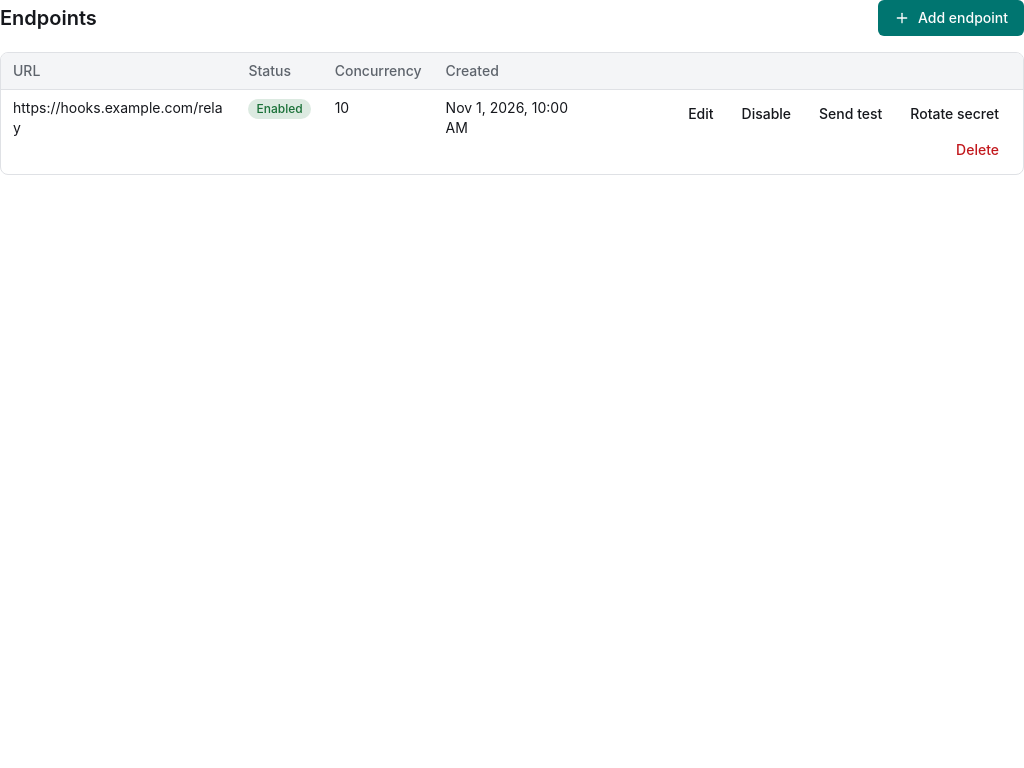
Test: endpoints: create › shows a refused (SSRF) URL on the URL field, not as a general error
Expected: the link "https://hooks.example.com/relay" is shown, [13,99,223,136]
Click the button "Add endpoint" at point(951, 18), box [878,0,1023,36]
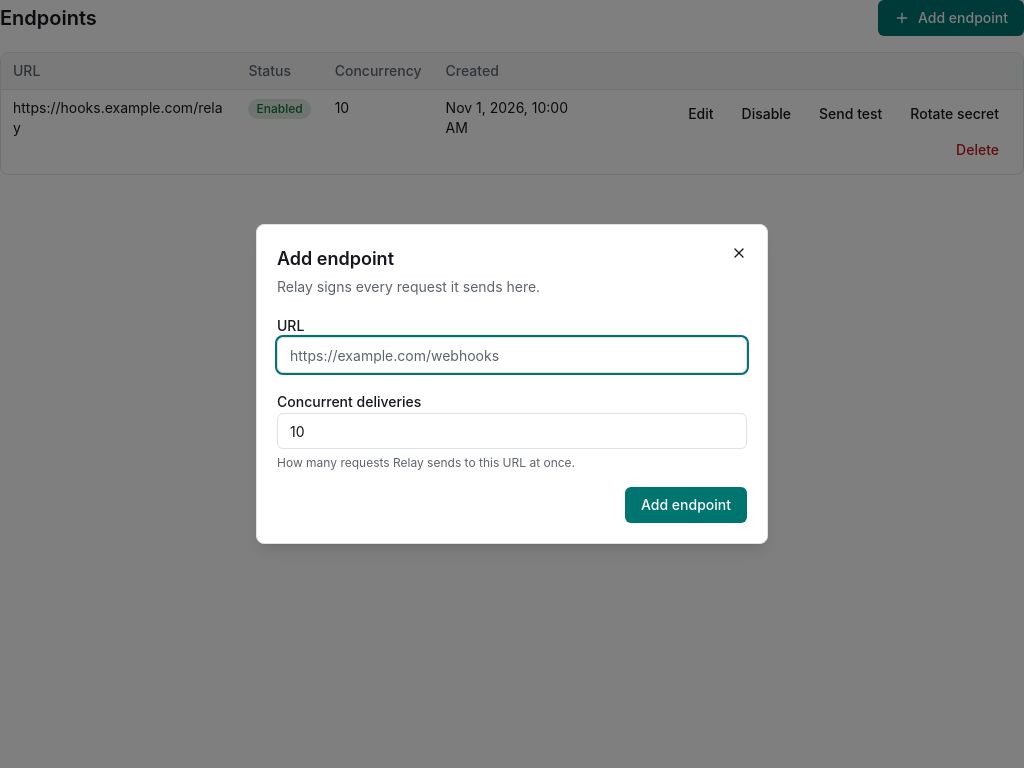
Type "https://internal.example.com/" into the field labelled "URL" at point(512, 355), box [277,337,747,373]
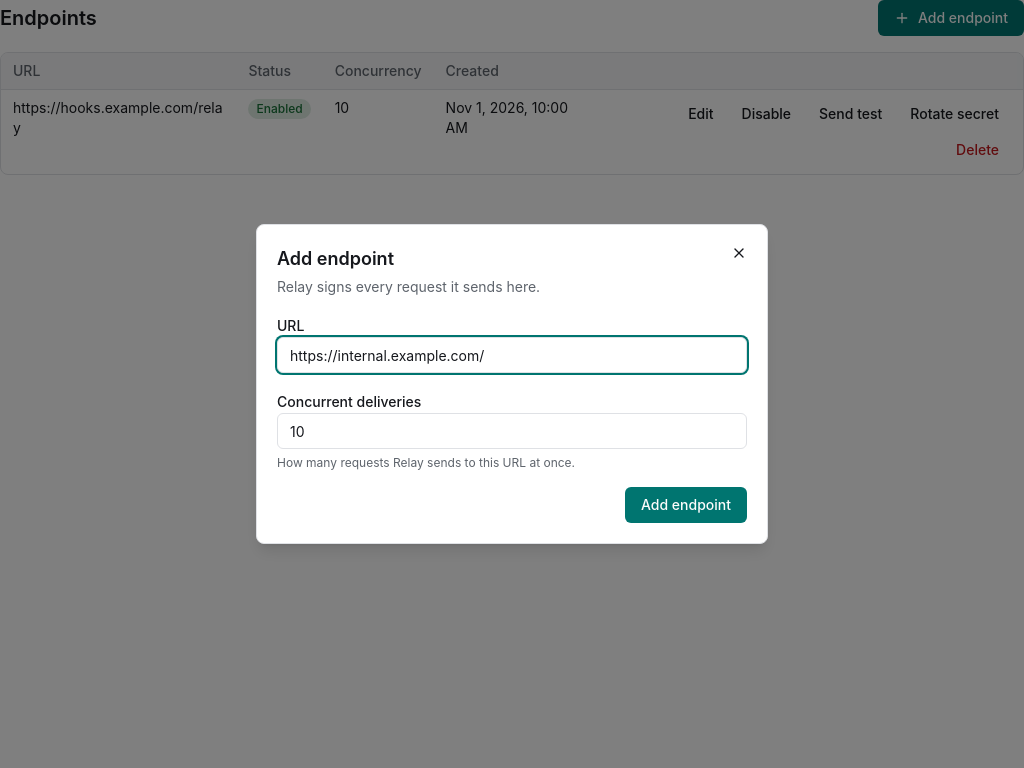
Click the button "Add endpoint" at point(686, 505), box [625,487,747,523]
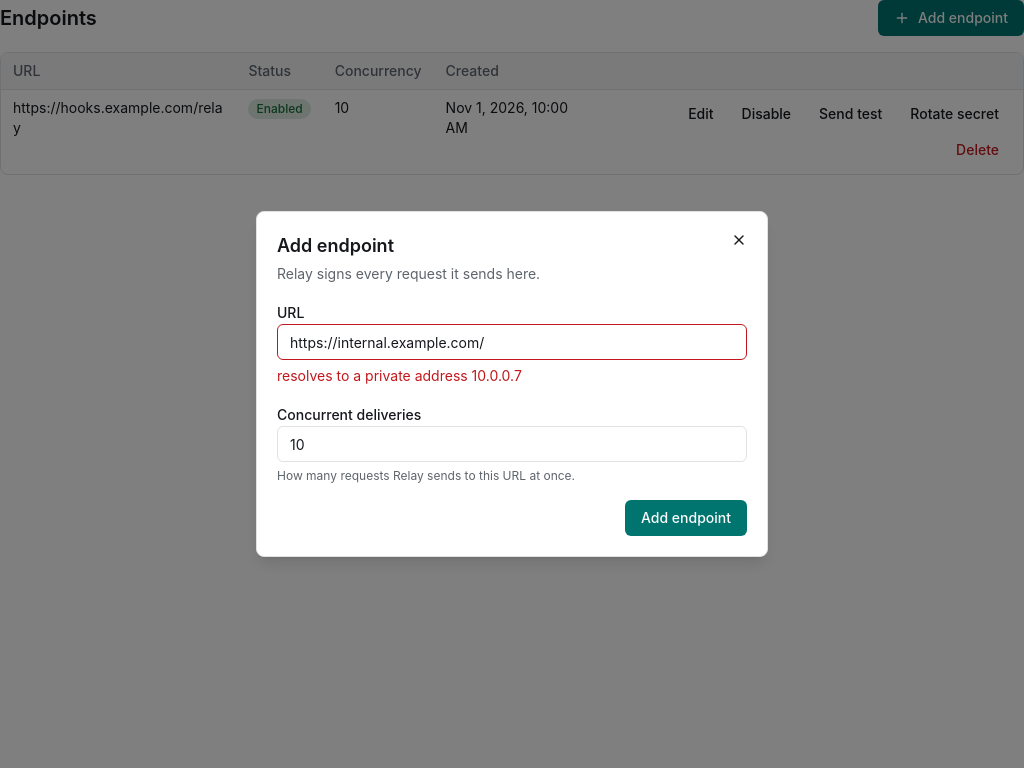
Expected: the field labelled "URL" is marked as invalid, [277,324,747,360]
